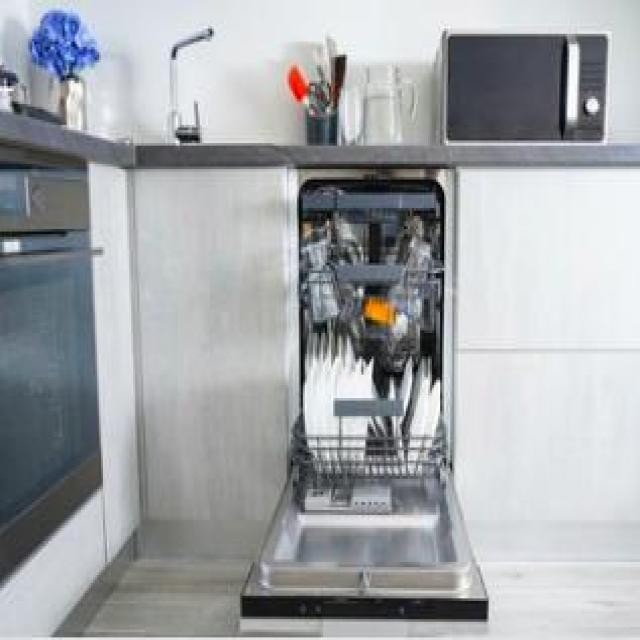dishwasher: (238, 164, 489, 635)
